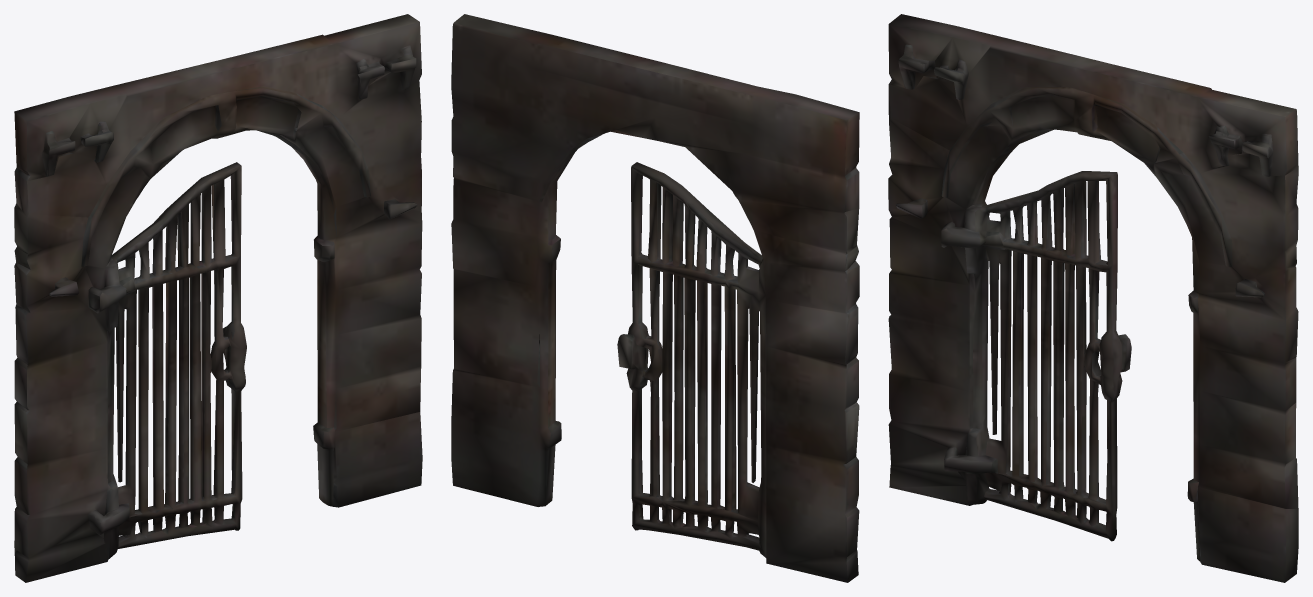
The model's file is ancient-iron-castle-door-v002.glb.
The picture shows the model from 3 angles, left to right: view 1: azimuth 30°, elevation 25°; view 2: azimuth 150°, elevation 25°; view 3: azimuth 330°, elevation 25°; orthographic projection.
Parts seen in each view (by area): view 1: ancient-iron-castle-door; view 2: ancient-iron-castle-door; view 3: ancient-iron-castle-door.
Part boxes in pixels (left/top/right/bottom): ancient-iron-castle-door: left=14, top=14, right=422, bottom=582; ancient-iron-castle-door: left=451, top=14, right=859, bottom=582; ancient-iron-castle-door: left=888, top=14, right=1298, bottom=582.
Bounding box in the file's own units: 2.49 × 2.81 × 0.3034.
1 material, 1 textured.
